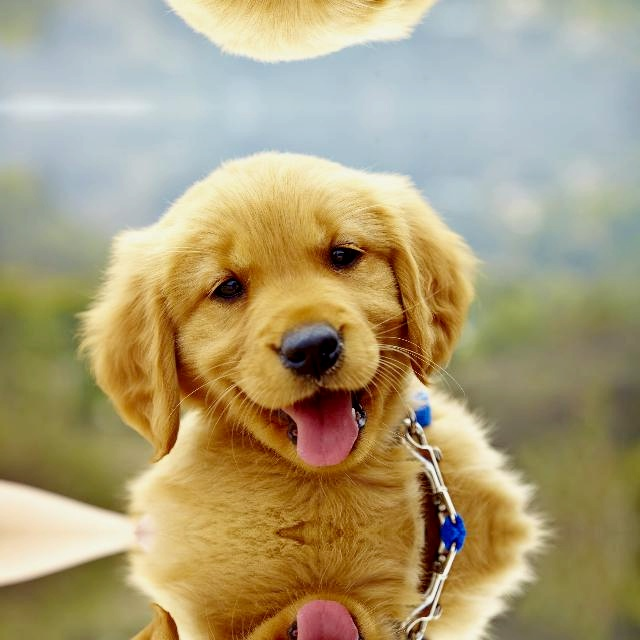dog: (57, 137, 493, 480), (57, 0, 494, 74), (57, 584, 494, 640)
